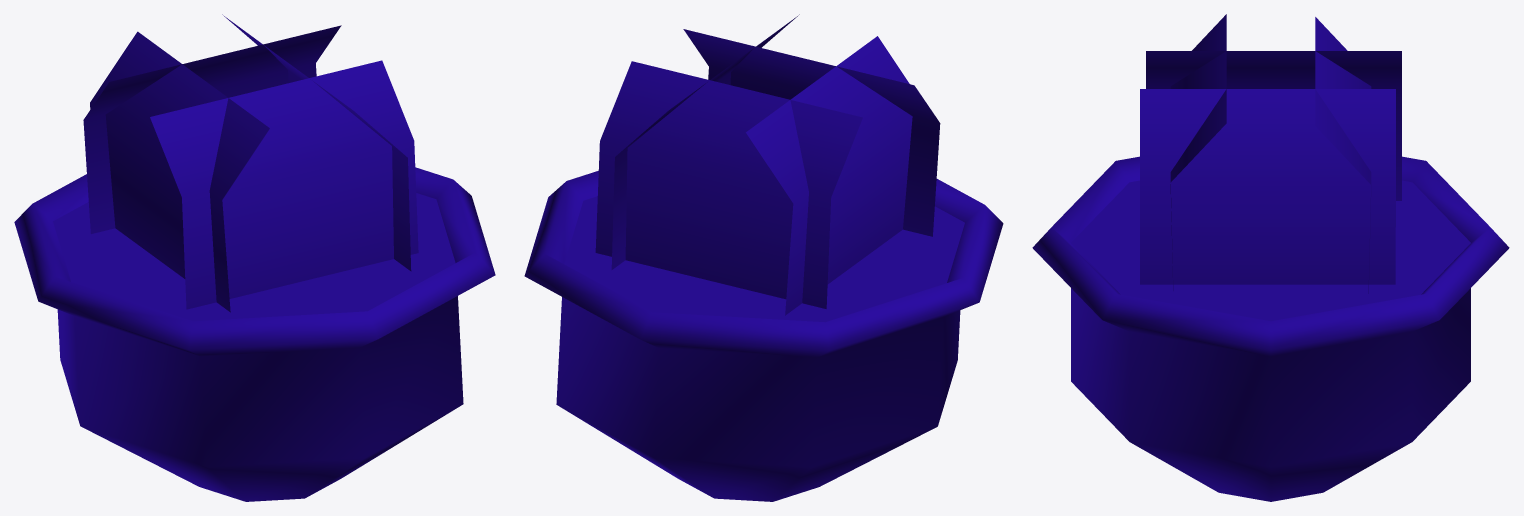
Rendered from CG_Model_TownInt_Pot2_Mar24_ChrisMcknight.FBX.
3 views of the same model, side by side, from view 1: azimuth 30°, elevation 25°; view 2: azimuth 150°, elevation 25°; view 3: azimuth 270°, elevation 25° (orthographic). The views are drawn at different scales.
Visible parts, largest first — view 1: Pot2; view 2: Pot2; view 3: Pot2.
Boxes of the visible parts, x1,y1,x2,y2 form: Pot2: [14, 14, 495, 501]; Pot2: [524, 14, 1003, 501]; Pot2: [1032, 14, 1509, 501].
Size of the model in its own units: 7.37 by 6.57 by 7.28.
